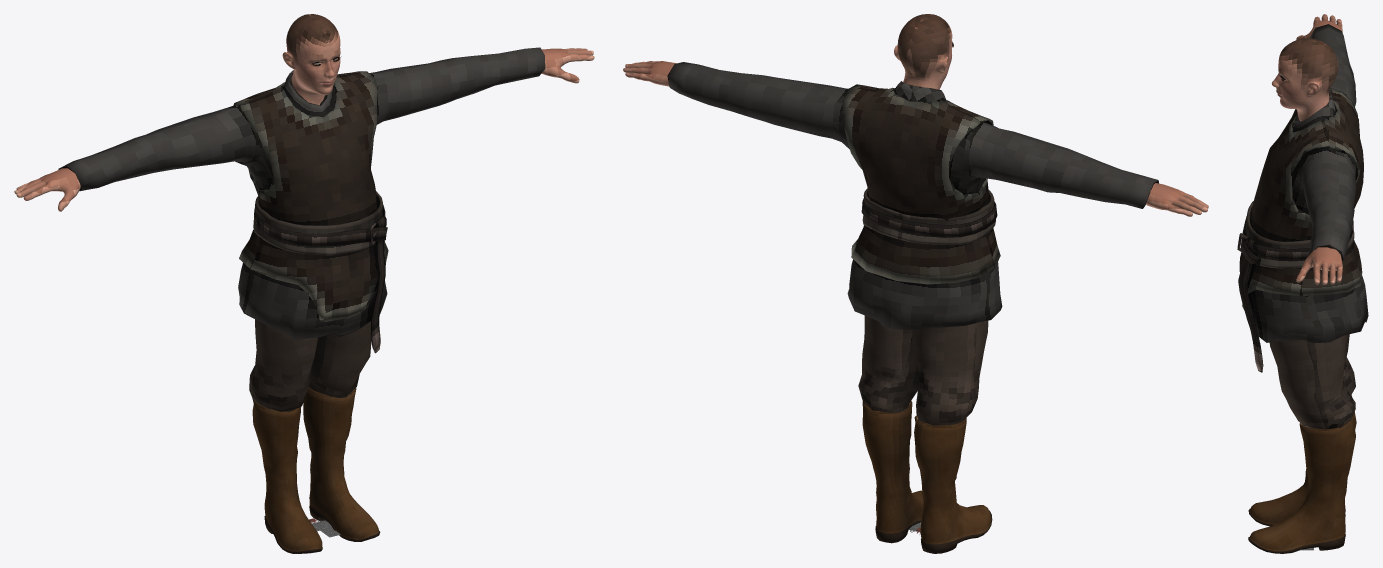
The model's file is man.obj.
3 renders of one model, left to right at view 1: azimuth 30°, elevation 25°; view 2: azimuth 150°, elevation 25°; view 3: azimuth 270°, elevation 25°, orthographic. The views are drawn at different scales.
Visible parts, largest first — view 1: man.001; view 2: man.001; view 3: man.001.
Part boxes in pixels (x1,y1,x2,y2): man.001: (14, 14, 594, 553); man.001: (623, 14, 1208, 553); man.001: (1237, 14, 1368, 553).
Size of what is drawn, in the model's own units: 212 by 180 by 43.4.
